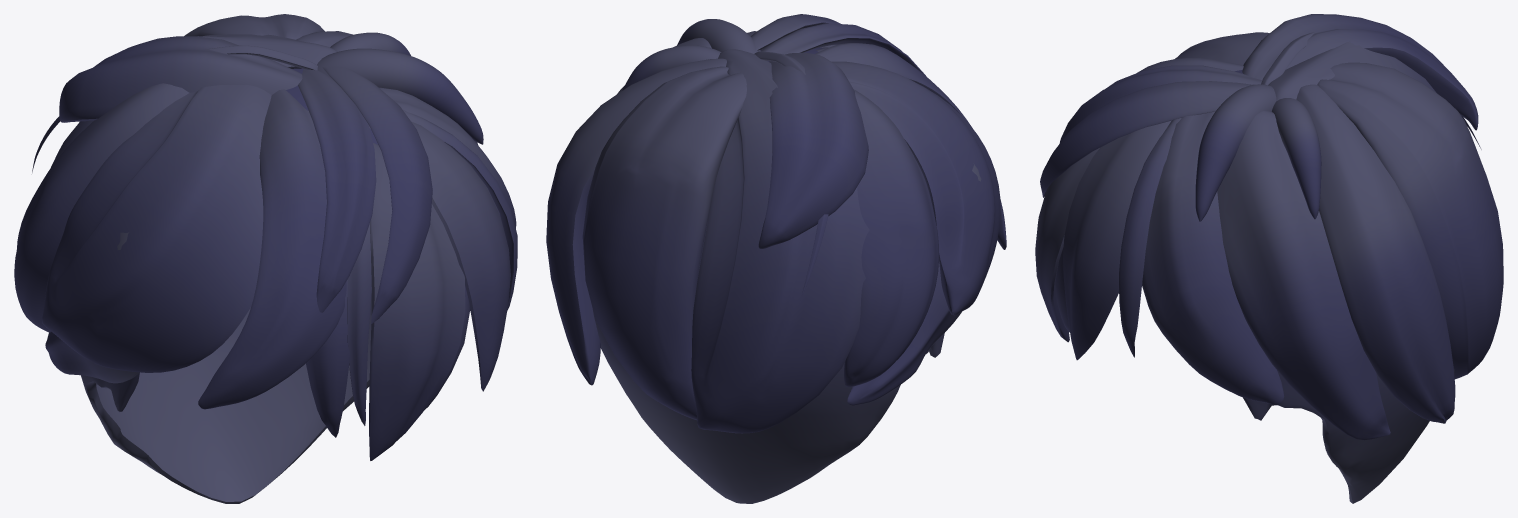
File: hair.glb
3 renders of one model, left to right at view 1: azimuth 30°, elevation 25°; view 2: azimuth 150°, elevation 25°; view 3: azimuth 270°, elevation 25°, orthographic. The views are drawn at different scales.
Parts seen in each view (by area): view 1: Object_2; view 2: Object_2; view 3: Object_2.
Part boxes in pixels (<box>): Object_2: <box>14,14,517,503</box>; Object_2: <box>546,14,1006,503</box>; Object_2: <box>1035,14,1503,503</box>.
Bounding box in the file's own units: 1.16 × 1.24 × 1.17.
1 material, 1 textured.
